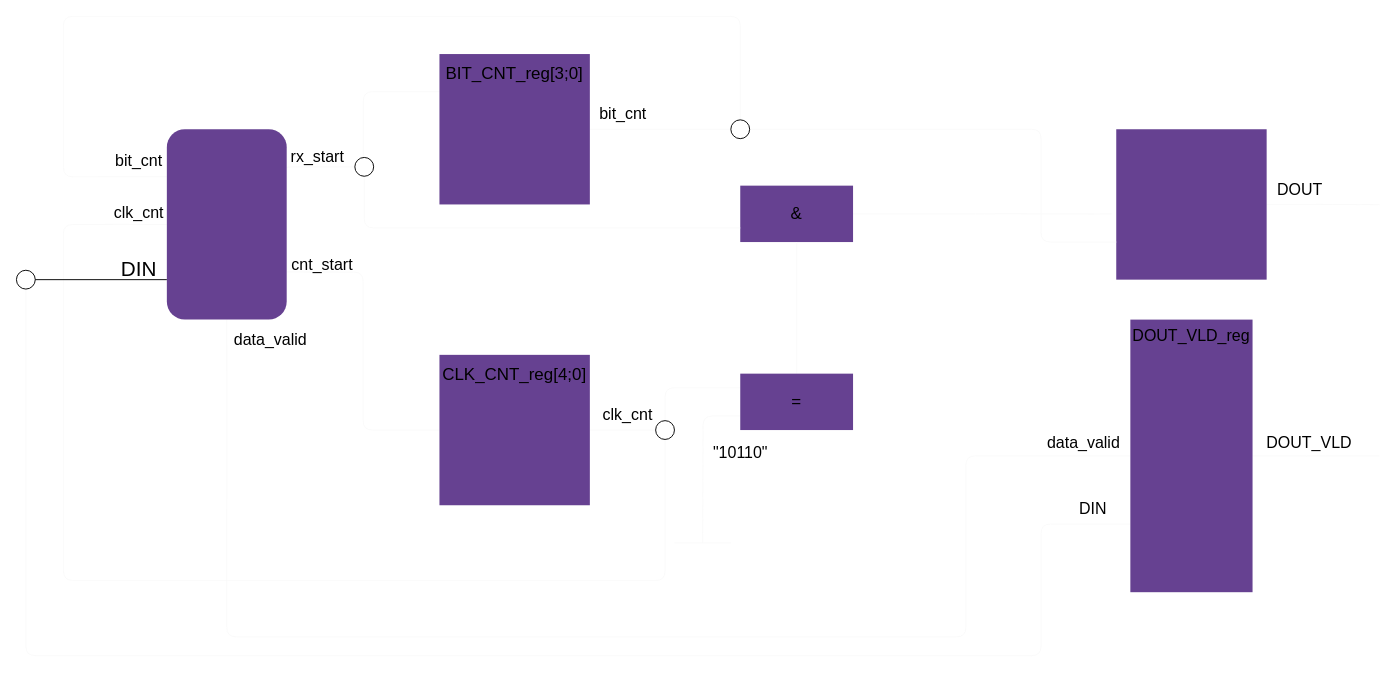
Some shapes in this 1397 by 673 pixel diagram are drawn without their labels. The shapes that lost their labels are listed below. From the top down, each one's box as (x1, y1, x2, y2) in pixels, then its label:
(166, 129, 286, 319): FSM
(1116, 129, 1266, 279): DOUT_reg[7;0]
